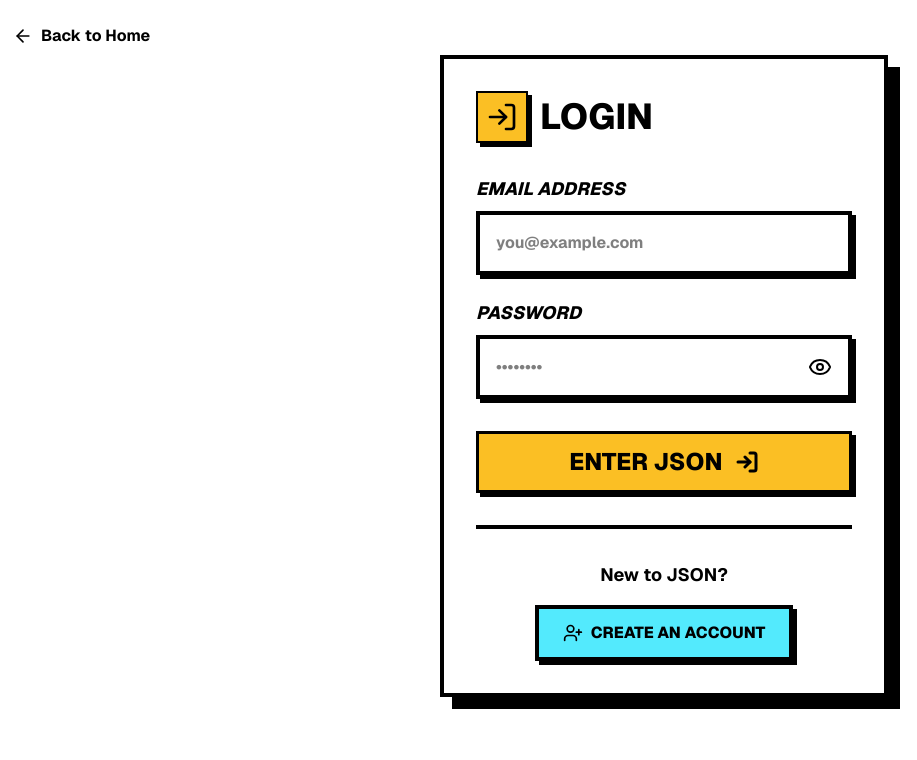
Test: Authentication Pages › LoginPage › handles fetch error
Type "test@example.com" into the field with placeholder "you@example.com" at [664, 243], box [476,211,852,275]
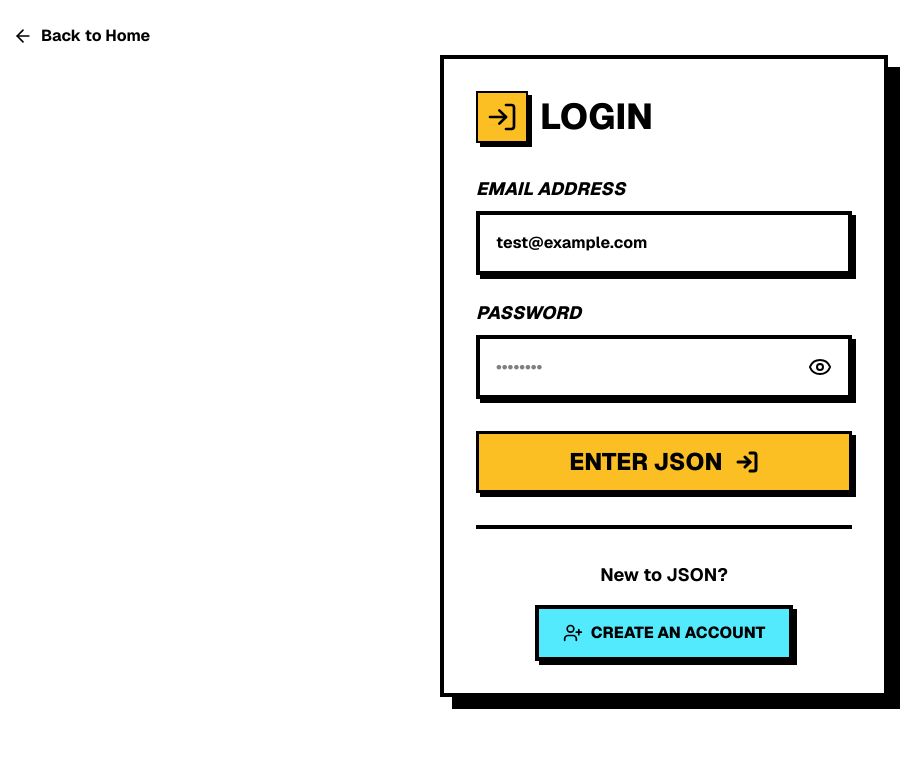
Type "wrongpassword" into the password field with placeholder "••••••••" at [664, 367], box [476,335,852,399]
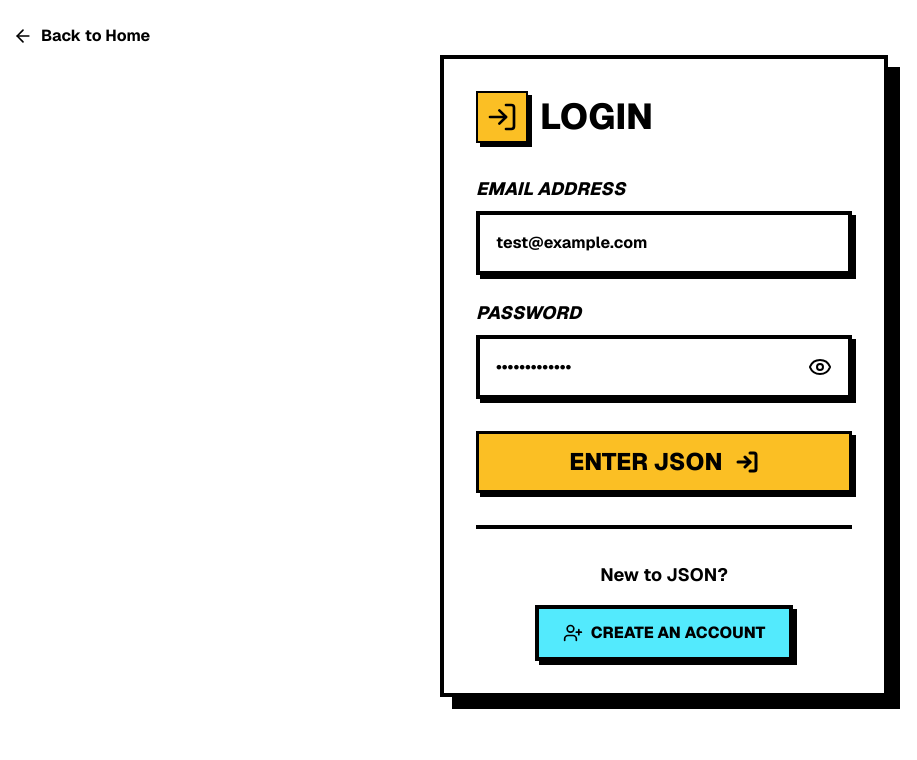
Click the button "Enter JSON" at [664, 462], box [476,431,852,493]
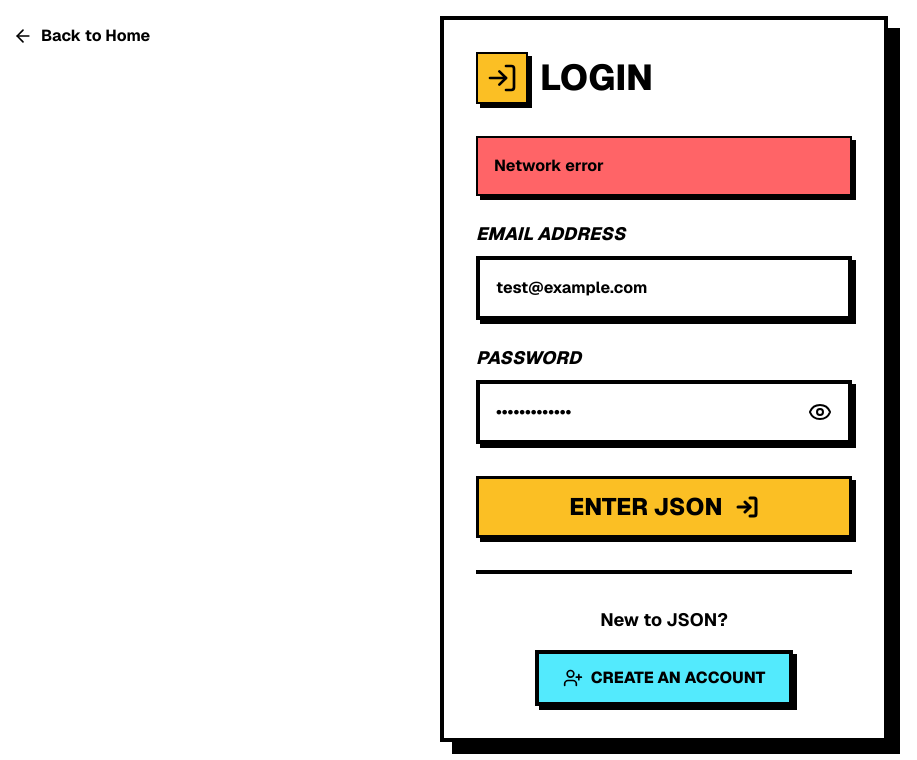
expect the text "Network error" is shown: met, box [476,136,852,196]
